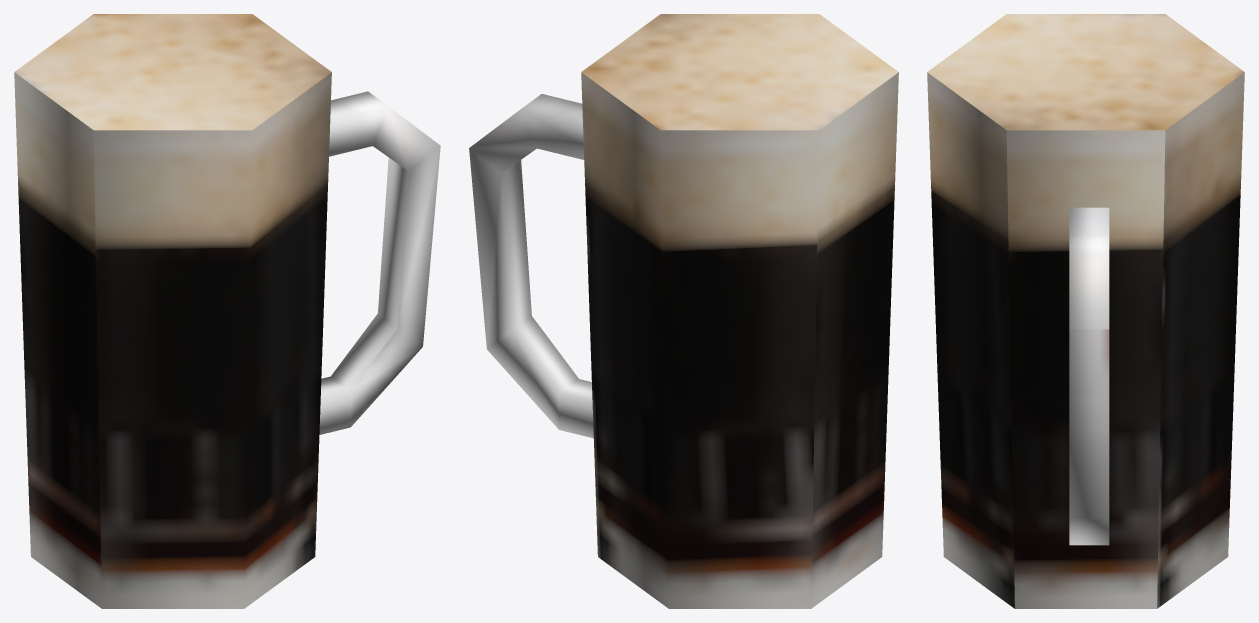
Rendered from BeerPorterInGlassV3.fbx.
The picture shows the model from 3 angles, left to right: view 1: azimuth 30°, elevation 25°; view 2: azimuth 150°, elevation 25°; view 3: azimuth 270°, elevation 25°; orthographic projection.
Visible parts, largest first — view 1: Beer&Wine.008; view 2: Beer&Wine.008; view 3: Beer&Wine.008.
Part boxes in pixels (x1=…): Beer&Wine.008: x1=14, y1=14, x2=440, y2=608; Beer&Wine.008: x1=469, y1=14, x2=898, y2=608; Beer&Wine.008: x1=927, y1=14, x2=1244, y2=608.
Size of the model in its own units: 0.1914 by 0.2343 by 0.1392.
